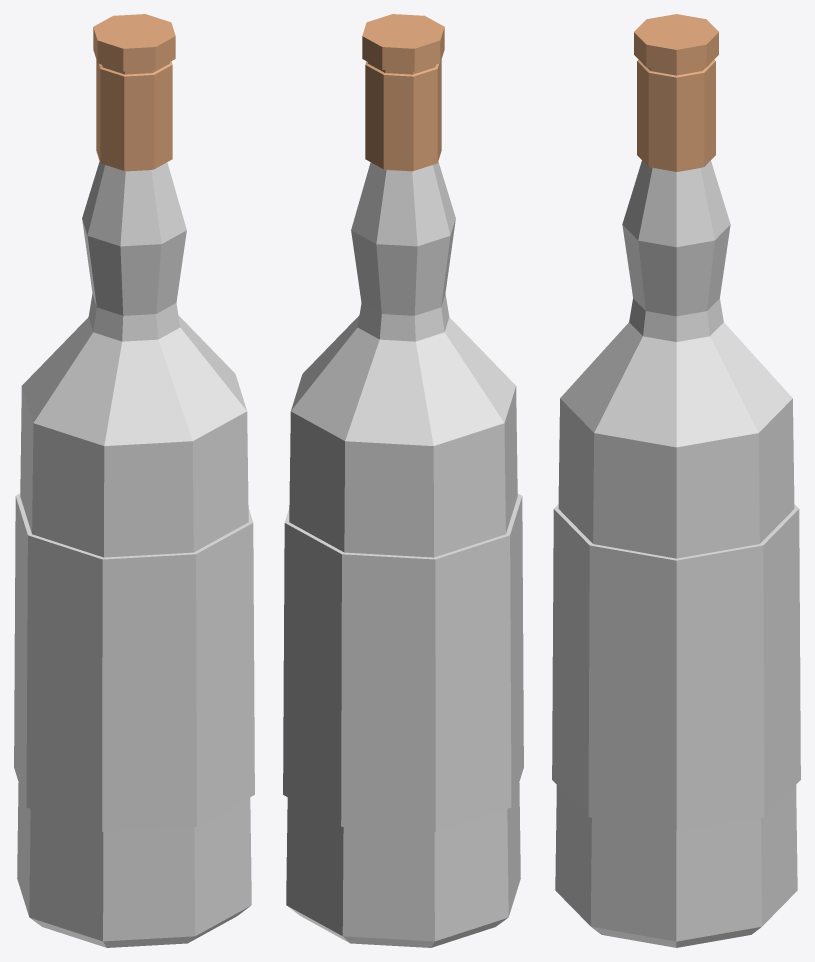
File: Botella_1.fbx
3 views of the same model, side by side, from view 1: azimuth 30°, elevation 25°; view 2: azimuth 150°, elevation 25°; view 3: azimuth 270°, elevation 25° (orthographic).
Visible parts, largest first — view 1: Botella_1; view 2: Botella_1; view 3: Botella_1.
Boxes of the visible parts, x1,y1,x2,y2 form: Botella_1: (14,14,254,947); Botella_1: (283,14,523,947); Botella_1: (552,14,800,947).
Bounding box in the file's own units: 56.8 × 219 × 56.8.
